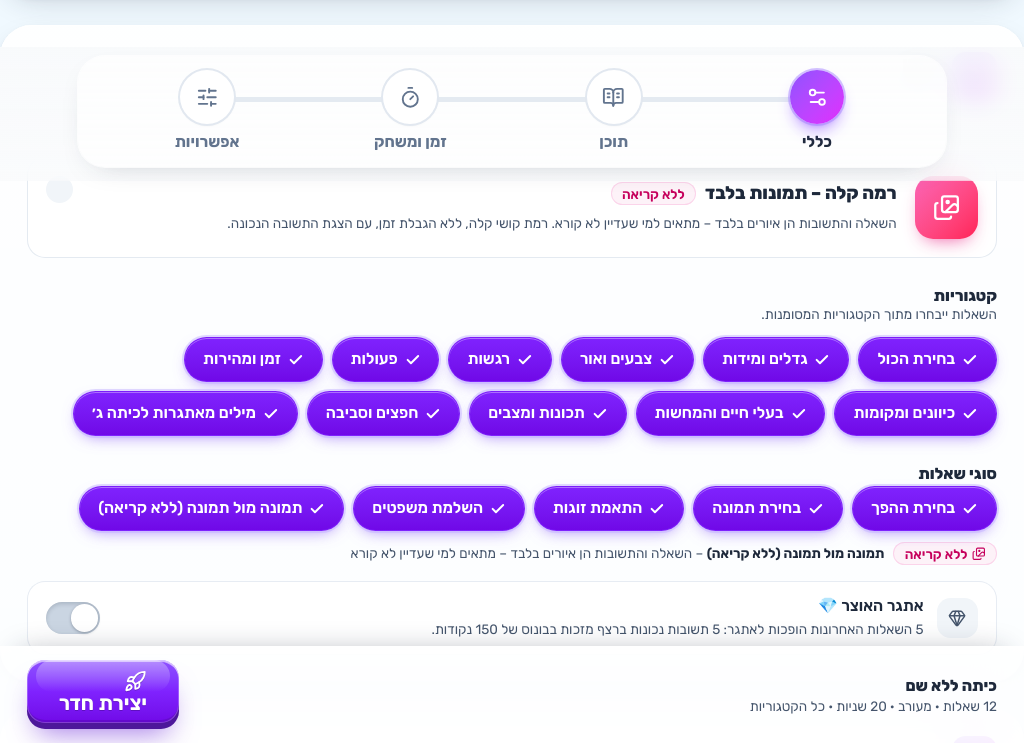
CreateGamePage › לא שולח כשחסר שם כיתה או קטגוריות
The image size is (1024, 743).
(page scrolled)
Click the button "בחירת הכול". click: {"x": 928, "y": 360}
box: [858, 337, 997, 382]
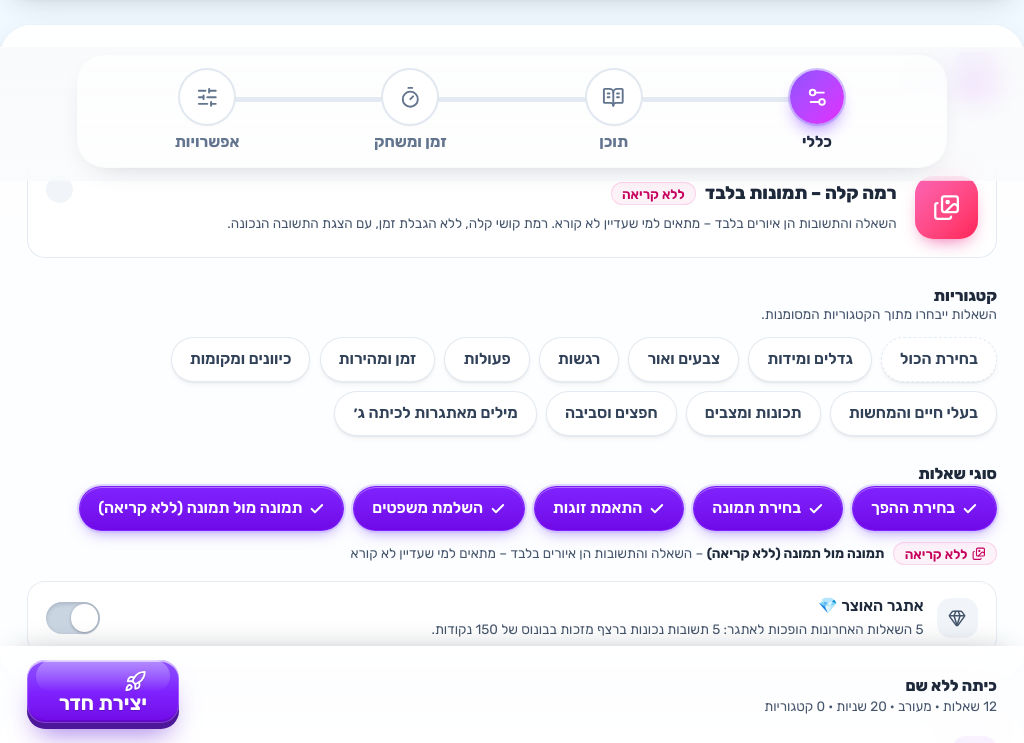
Click the button "יצירת חדר". click: {"x": 103, "y": 695}
box: [27, 660, 179, 730]
(page scrolled)
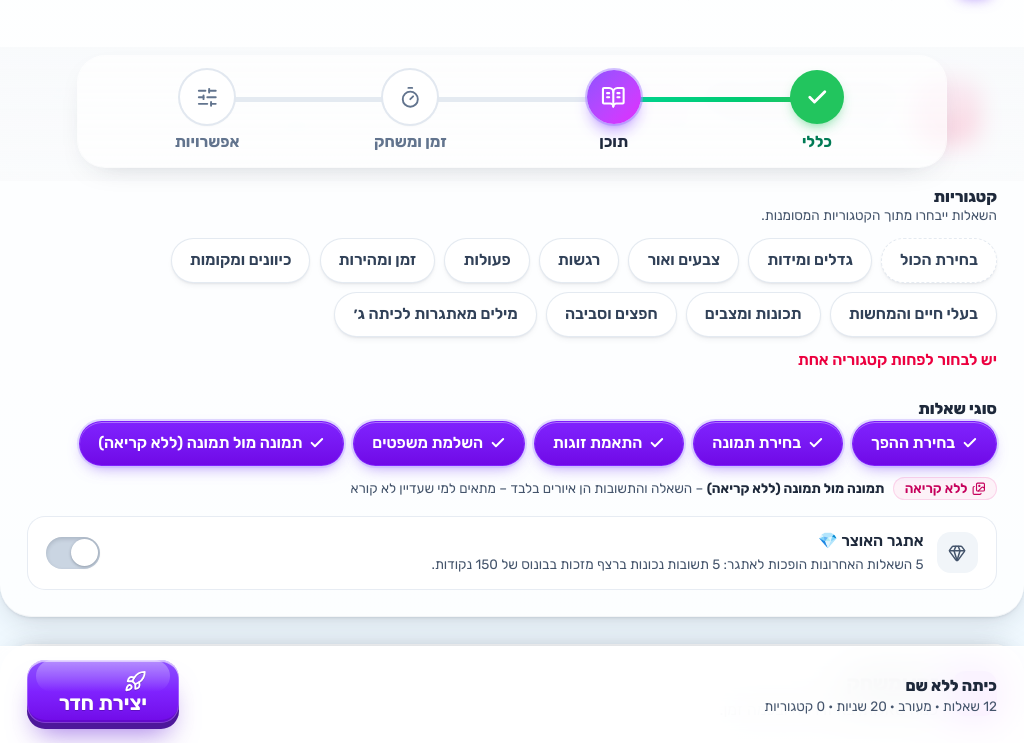
expect the text "יש לבחור לפחות קטגוריה אחת" is shown: met, box [798, 350, 997, 368]
